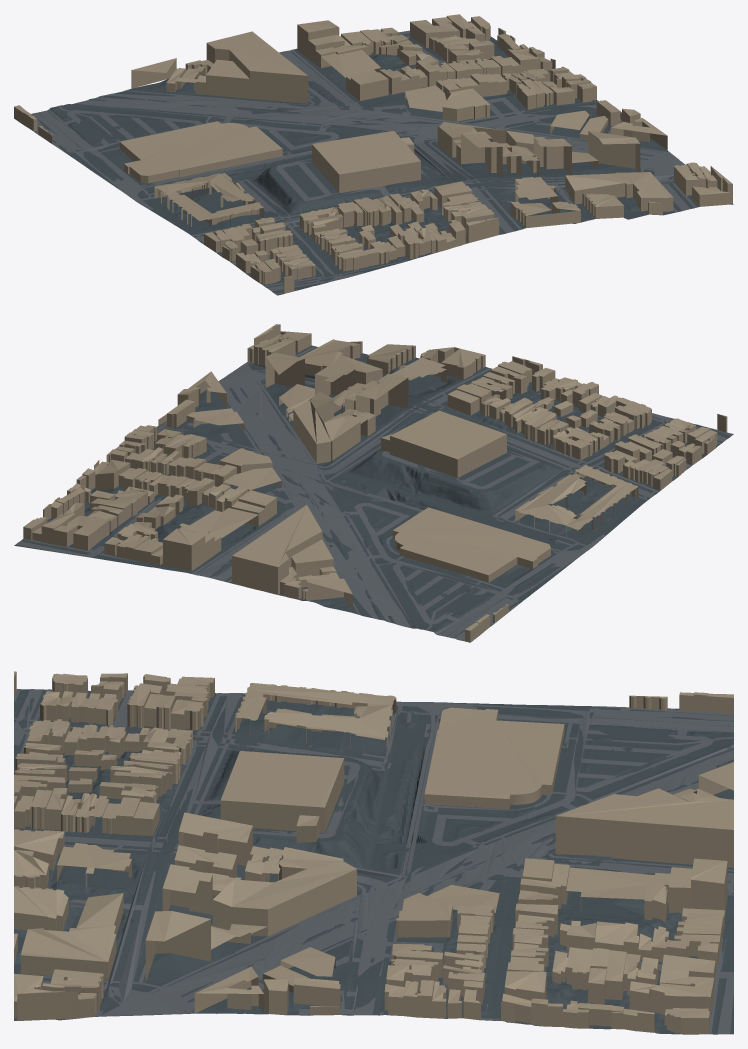
The model's file is epsg26910-1433-10886.lod0.glb.
The picture shows the model from 3 angles, top to bottom: view 1: azimuth 30°, elevation 25°; view 2: azimuth 150°, elevation 25°; view 3: azimuth 270°, elevation 25°; orthographic projection. The views are drawn at different scales.
Parts seen in each view (by area): view 1: epsg26910-1433-10886-lod0; view 2: epsg26910-1433-10886-lod0; view 3: epsg26910-1433-10886-lod0.
Boxes of the visible parts, x1=… form: epsg26910-1433-10886-lod0: x1=14, y1=14, x2=733, y2=295; epsg26910-1433-10886-lod0: x1=14, y1=324, x2=733, y2=642; epsg26910-1433-10886-lod0: x1=14, y1=671, x2=733, y2=1034.
Bounding box in the file's own units: 384 × 54.96 × 384.
